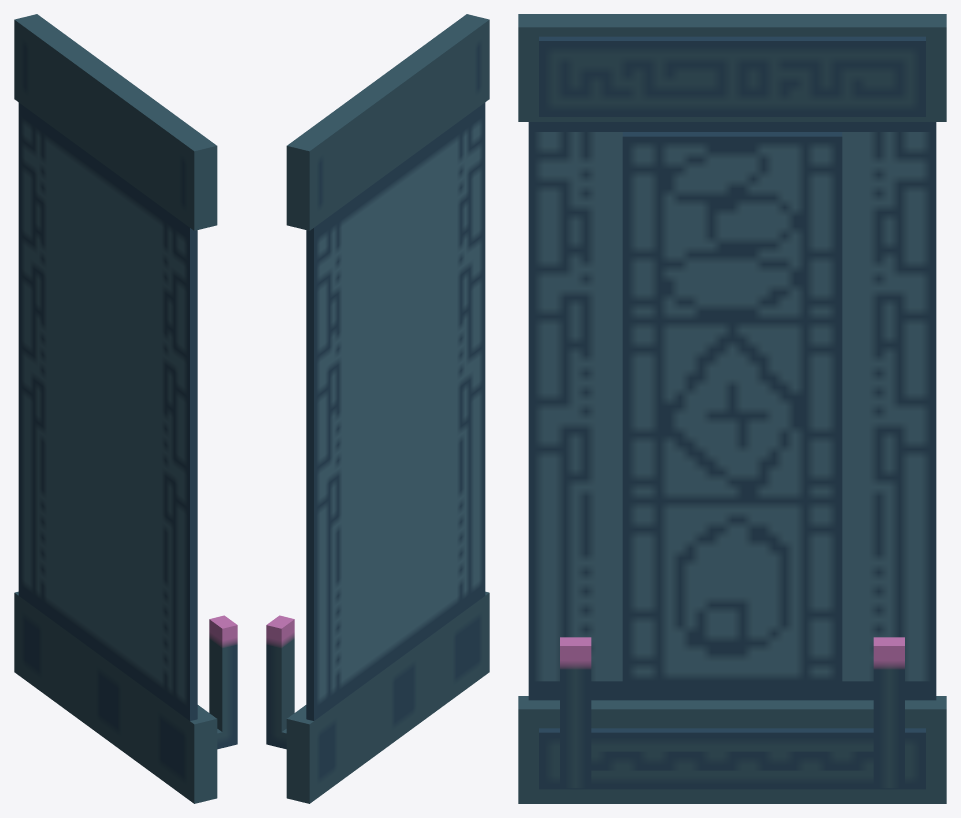
The model's file is door.fbx.
3 renders of one model, left to right at view 1: azimuth 30°, elevation 25°; view 2: azimuth 150°, elevation 25°; view 3: azimuth 270°, elevation 25°, orthographic. The views are drawn at different scales.
Parts seen in each view (by area): view 1: door; view 2: door; view 3: door.
Part boxes in pixels (x1,y1,x2,y2): door: (14, 14, 237, 803); door: (266, 14, 489, 803); door: (518, 14, 946, 803).
Size of the model in its own units: 8 by 82 by 41.
1 material, 1 textured.
